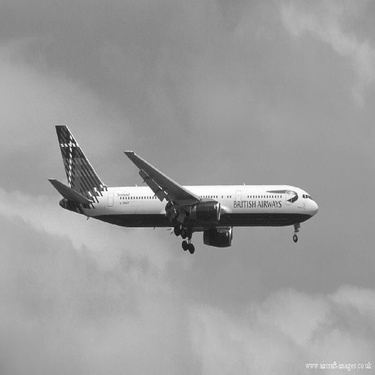airplane: (39, 104, 331, 255)
